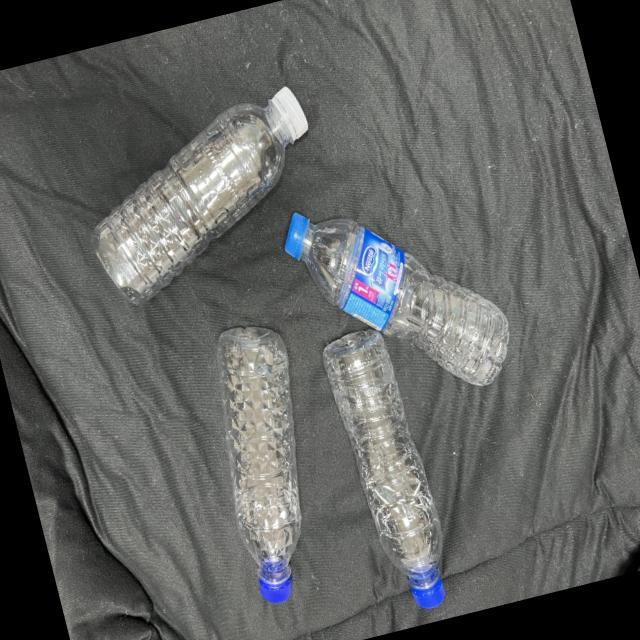good: (77, 60, 324, 327), (264, 186, 523, 401), (308, 318, 468, 624), (200, 320, 323, 611)
